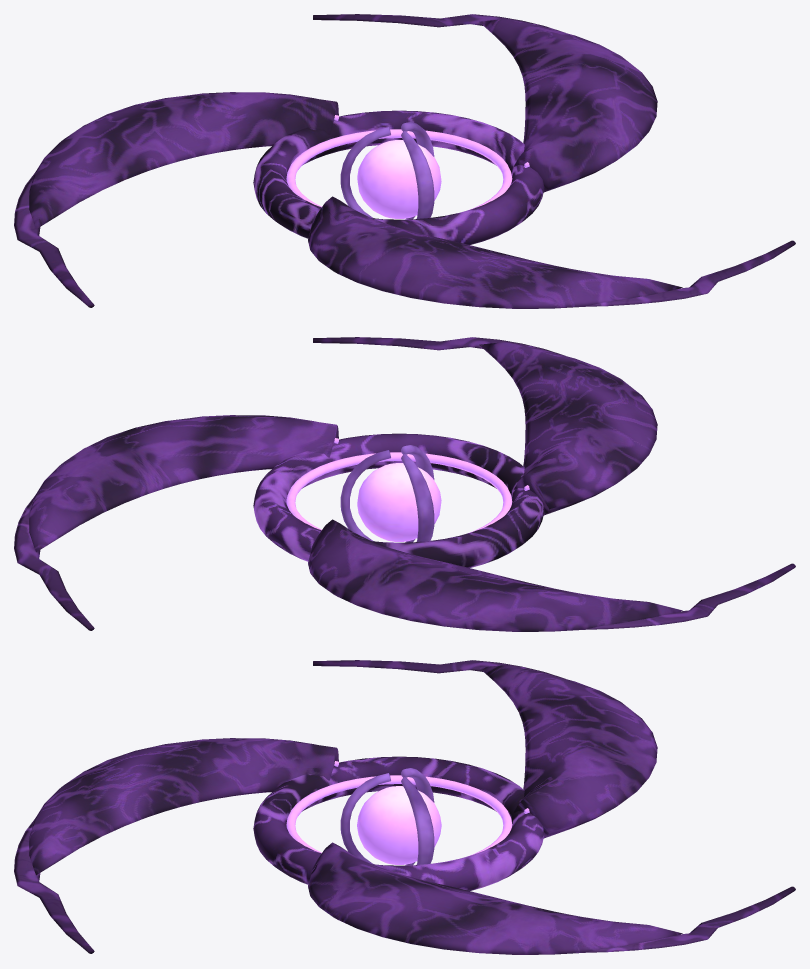
The model's file is phantasm.glb.
3 views of the same model, one above another, from view 1: azimuth 30°, elevation 25°; view 2: azimuth 150°, elevation 25°; view 3: azimuth 270°, elevation 25° (orthographic).
Visible parts, largest first — view 1: petal1, petal2, petal3, ring, core; view 2: petal3, petal1, petal2, ring, core; view 3: petal2, petal3, petal1, ring, core.
Boxes of the visible parts, x1,y1,x2,y2 form: petal1: (14, 92, 338, 307); petal2: (308, 196, 795, 308); petal3: (313, 14, 657, 192); ring: (253, 110, 544, 244); core: (340, 122, 441, 219); petal3: (14, 415, 338, 630); petal1: (308, 519, 795, 631); petal2: (313, 337, 657, 515); ring: (253, 433, 544, 567); core: (340, 445, 441, 542); petal2: (14, 738, 338, 953); petal3: (308, 842, 795, 954); petal1: (313, 660, 657, 838); ring: (253, 756, 544, 890); core: (340, 768, 441, 865).
Bounding box in the file's own units: 0.8665 × 0.1334 × 0.9215.
Materials: 4 (4 with a texture image).
